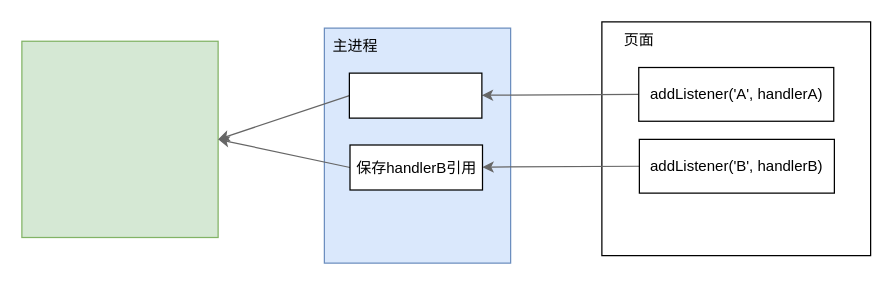
Image size: 893x285. Some labels were removed from this diagram. Here are the shapes that lost their labels. From the top down, the centre of each, then its label:
the point at 415,95: 保存handlerA引用
the point at 119,139: Bridge
